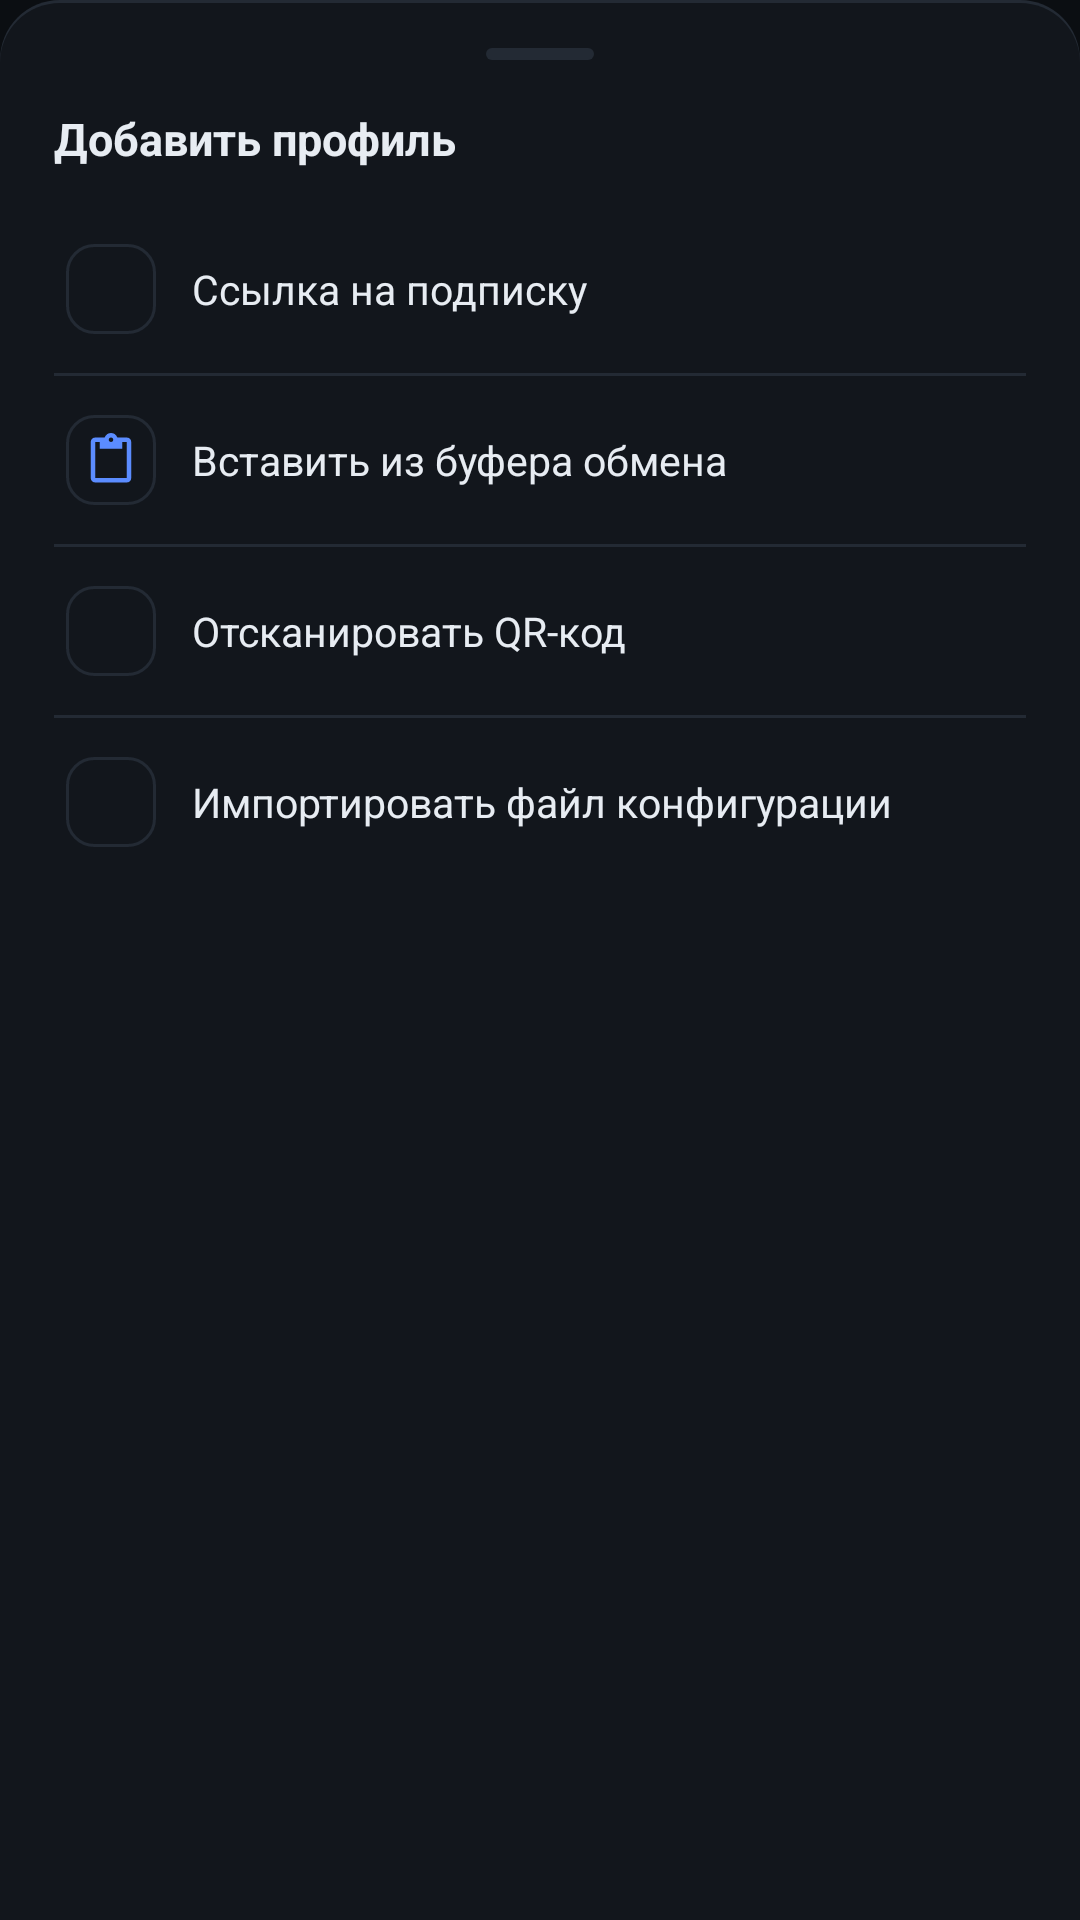

Where icons sit on this 1080 x 1920 app screen, as (x1, y1, x2, y2):
paste: (90, 433, 132, 483)
